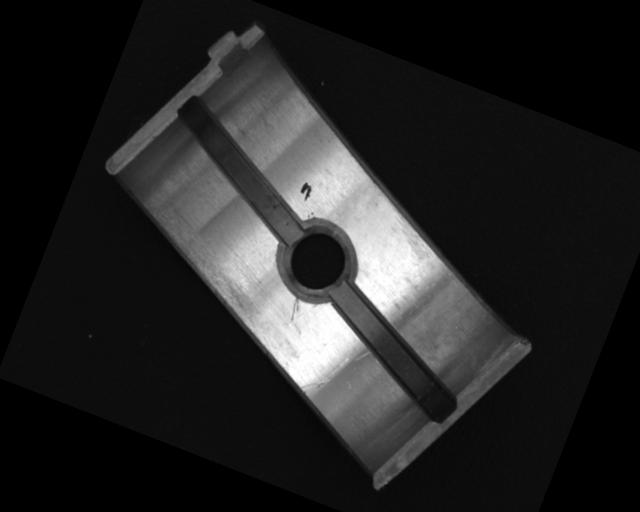blot: (297, 180, 314, 201)
gap: (148, 92, 332, 245), (305, 280, 483, 424)
hole: (265, 210, 368, 312)
nick: (299, 343, 351, 404), (287, 297, 303, 322)
scratch: (118, 203, 284, 331)
